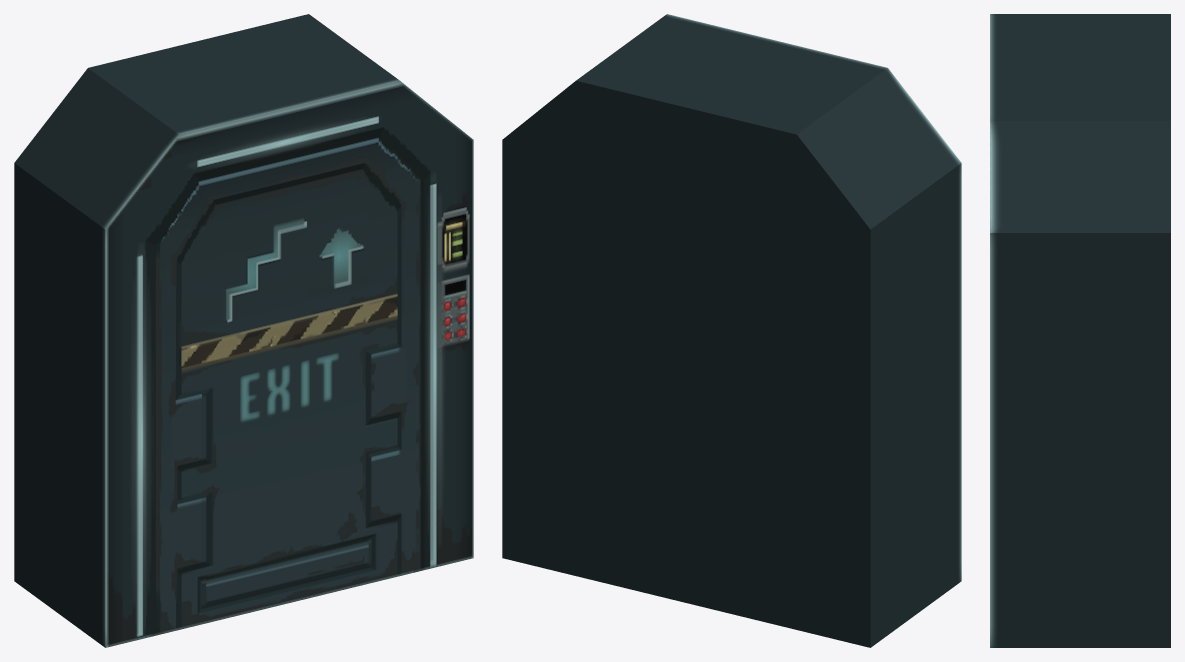
The model's file is ExitBlock.fbx.
The picture shows the model from 3 angles, left to right: view 1: azimuth 30°, elevation 25°; view 2: azimuth 150°, elevation 25°; view 3: azimuth 270°, elevation 25°; orthographic projection.
Parts seen in each view (by area): view 1: pCube4; view 2: pCube4; view 3: pCube4.
Boxes of the visible parts, x1,y1,x2,y2 form: pCube4: [14, 14, 473, 647]; pCube4: [502, 14, 961, 647]; pCube4: [990, 14, 1170, 647].
Size of the model in its own units: 0.7 by 0.9 by 0.3.
1 material, 1 textured.
